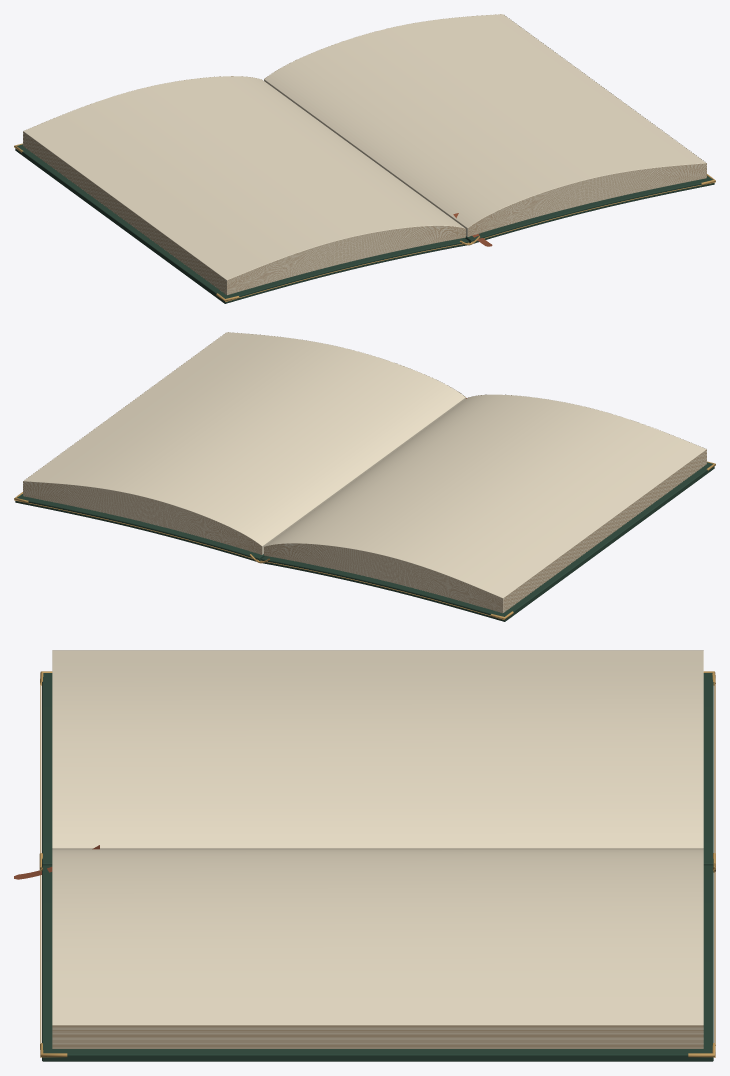
The model's file is book.glb.
The picture shows the model from 3 angles, top to bottom: view 1: azimuth 30°, elevation 25°; view 2: azimuth 150°, elevation 25°; view 3: azimuth 270°, elevation 25°; orthographic projection. The views are drawn at different scales.
Parts seen in each view (by area): view 1: Left sewn page block, 124 individually curved paper strata, Left linen hardcover, Sewn brass headband; view 2: Left sewn page block, 124 individually curved paper strata, Left linen hardcover, Sewn brass headband; view 3: Left sewn page block, Left linen hardcover, 124 individually curved paper strata, Sewn brass headband.
Part boxes in pixels (x1=…): Left sewn page block: x1=23, y1=14, x2=706, y2=294; 124 individually curved paper strata: x1=23, y1=14, x2=706, y2=294; Left linen hardcover: x1=15, y1=144, x2=714, y2=303; Sewn brass headband: x1=14, y1=143, x2=715, y2=301; Left sewn page block: x1=23, y1=332, x2=706, y2=612; 124 individually curved paper strata: x1=23, y1=332, x2=706, y2=612; Left linen hardcover: x1=15, y1=462, x2=714, y2=621; Sewn brass headband: x1=14, y1=461, x2=715, y2=619; Left sewn page block: x1=52, y1=650, x2=703, y2=1048; Left linen hardcover: x1=42, y1=673, x2=713, y2=1061; 124 individually curved paper strata: x1=52, y1=650, x2=703, y2=1048; Sewn brass headband: x1=39, y1=671, x2=715, y2=1057.
Size of the model in its own units: 14.28 by 0.9689 by 11.03.
